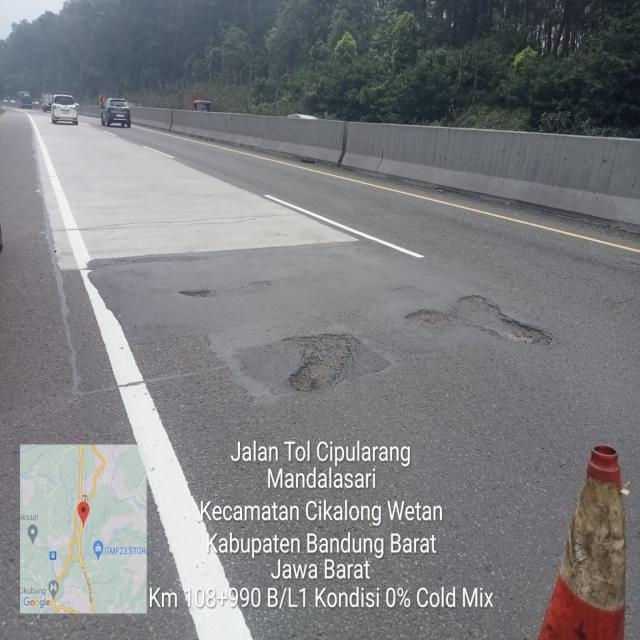Buraco: (401, 293, 557, 348), (286, 332, 364, 395), (298, 157, 318, 165)
